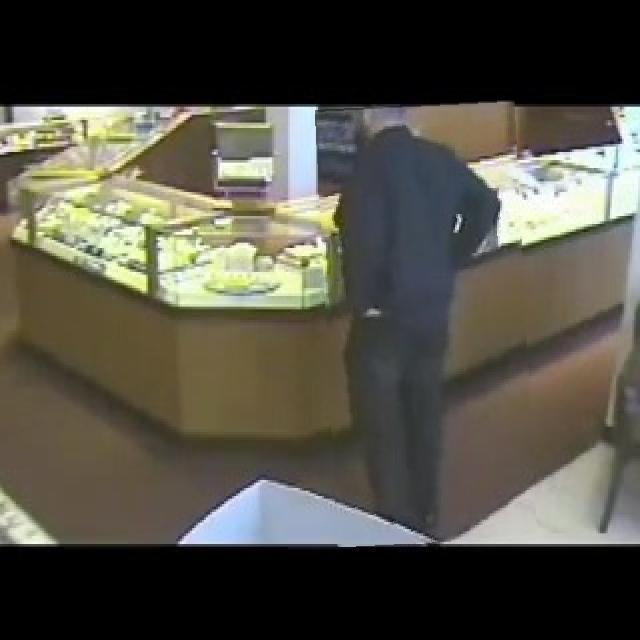Normal: (321, 103, 531, 545)
